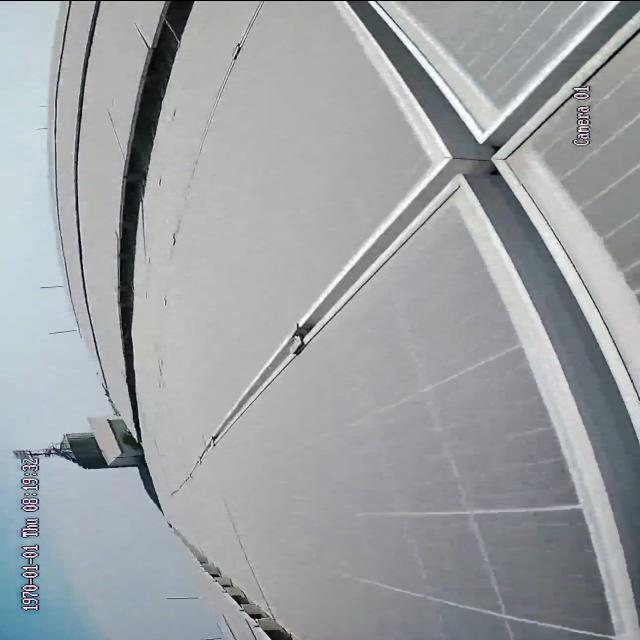interior panel: (173, 0, 639, 633)
outher panel: (121, 1, 197, 381)
